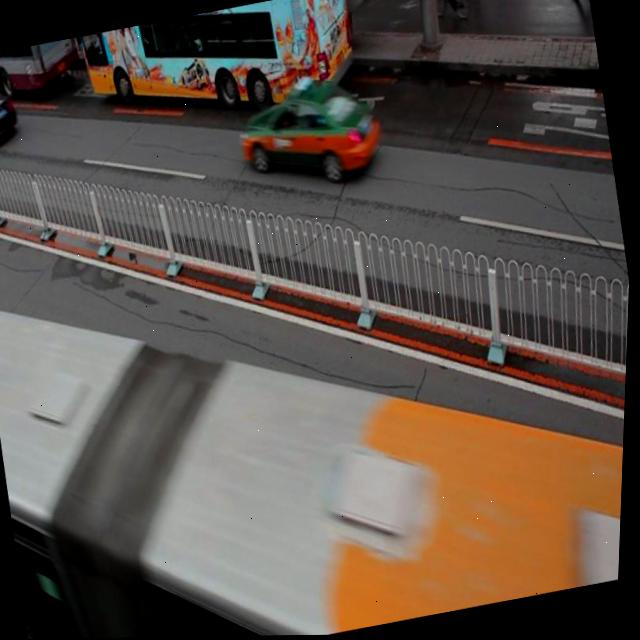car: (231, 65, 390, 197), (0, 77, 23, 152)
van: (0, 168, 635, 640), (76, 0, 361, 144), (0, 37, 83, 106)
